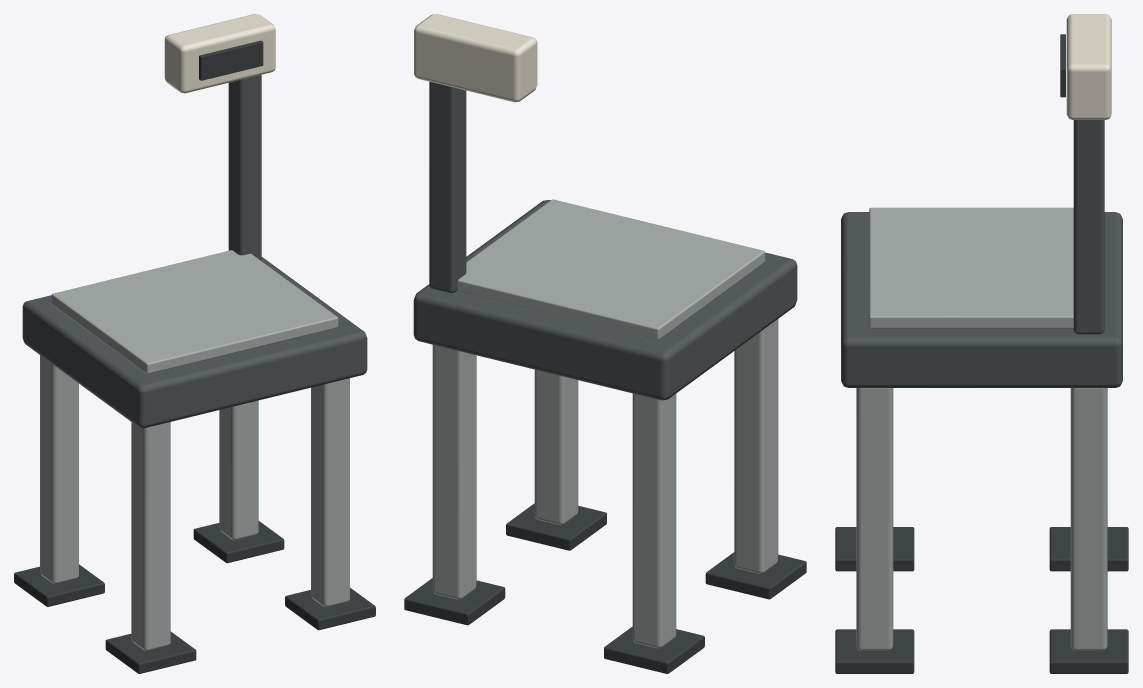
Rendered from coffee-roastery-and-cupping-room-coffee-roastery-and-c-d1b0ed9e__32218.glb.
3 renders of one model, left to right at view 1: azimuth 30°, elevation 25°; view 2: azimuth 150°, elevation 25°; view 3: azimuth 270°, elevation 25°, orthographic. The views are drawn at different scales.
Visible parts, largest first — view 1: coffee-roastery-and-cupping-room-bag-filling-scale; view 2: coffee-roastery-and-cupping-room-bag-filling-scale; view 3: coffee-roastery-and-cupping-room-bag-filling-scale.
Boxes of the visible parts, left/top/right/bottom form: coffee-roastery-and-cupping-room-bag-filling-scale: left=14, top=14, right=375, bottom=673; coffee-roastery-and-cupping-room-bag-filling-scale: left=404, top=14, right=806, bottom=673; coffee-roastery-and-cupping-room-bag-filling-scale: left=835, top=14, right=1128, bottom=673.
Size of the model in its own units: 0.57 by 1.19 by 0.52.
